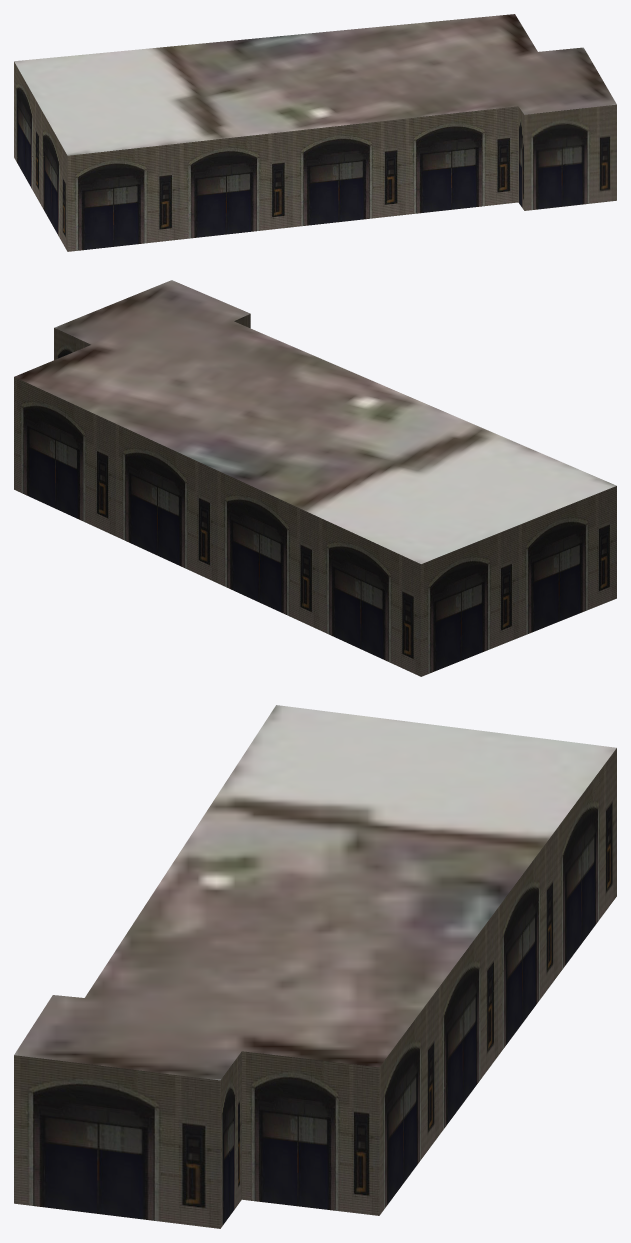
3 renders of one model, top to bottom at view 1: azimuth 30°, elevation 25°; view 2: azimuth 150°, elevation 25°; view 3: azimuth 270°, elevation 25°, orthographic. The views are drawn at different scales.
Visible parts, largest first — view 1: SketchUp (×5); view 2: SketchUp (×4); view 3: SketchUp (×5).
Boxes of the visible parts, left/top/right/bottom form: SketchUp (×5): left=14, top=14, right=616, bottom=251; SketchUp (×4): left=14, top=280, right=616, bottom=676; SketchUp (×5): left=14, top=705, right=616, bottom=1228.
Size of the model in its own units: 23.75 by 16.12 by 4.38.
2 materials, 2 textured.
